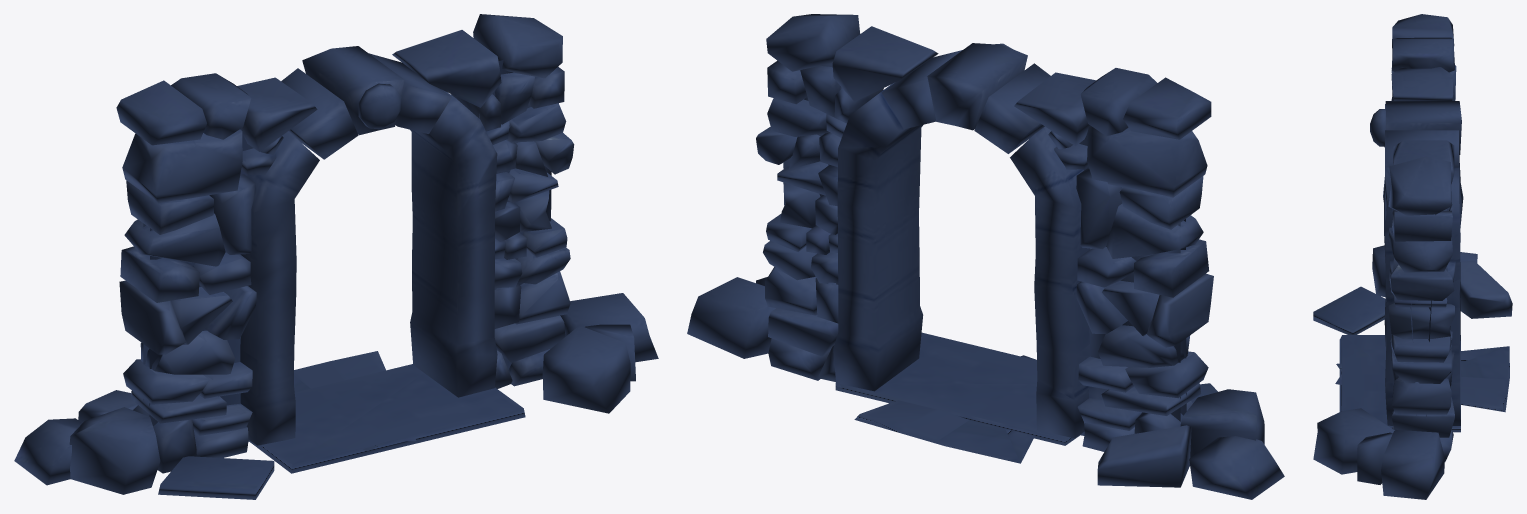
File: arch.glb
3 views of the same model, side by side, from view 1: azimuth 30°, elevation 25°; view 2: azimuth 150°, elevation 25°; view 3: azimuth 270°, elevation 25° (orthographic). The views are drawn at different scales.
Bounding box in the file's own units: 0.9614 × 0.5493 × 0.3438.
Materials: 1 (1 with a texture image).
